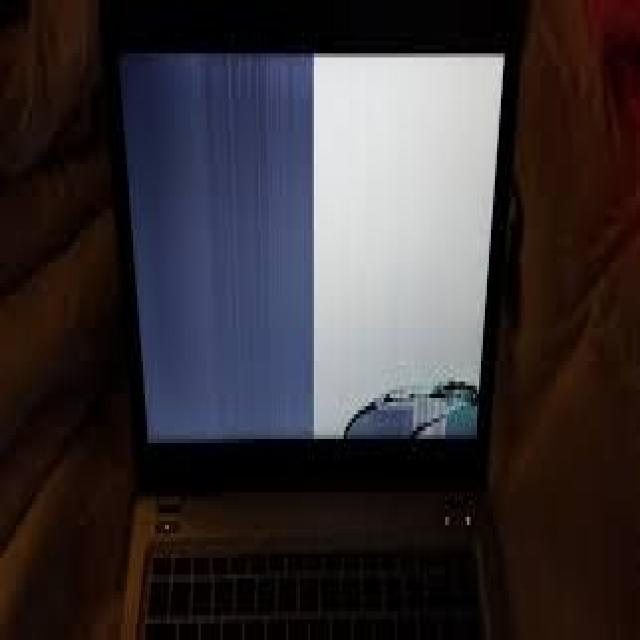Screen cracks: (336, 352, 483, 448)
